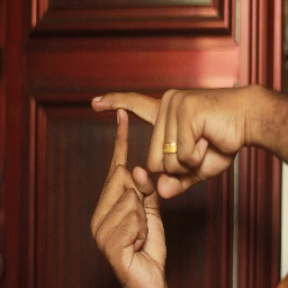T: (74, 83, 180, 210)
